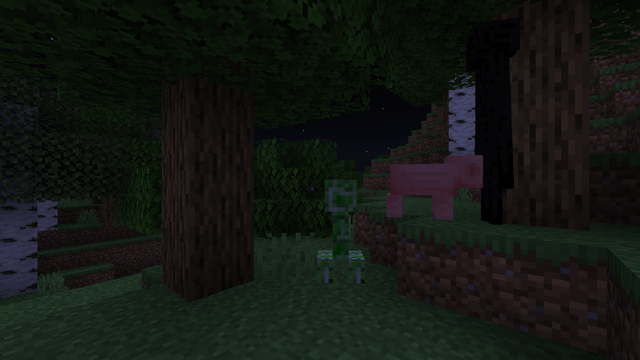cochons: (385, 160, 456, 221)
creepers: (314, 174, 364, 287)
endermens: (463, 4, 517, 226)
